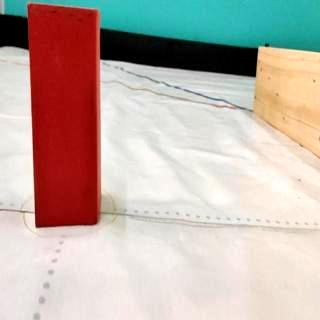redbox: (26, 2, 104, 230)
